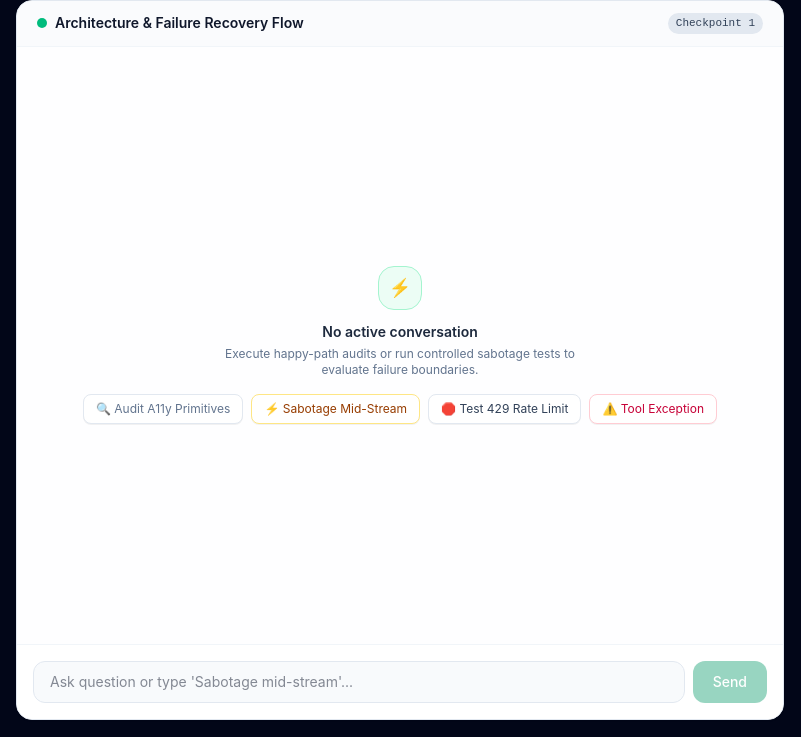
ChatInterface & Tool Execution Suite › displays pending indicator while response stream is awaiting first token
In the field with placeholder "Ask question or type 'Sabotage mid-stream'...": (359, 682) [33,661,685,703], type "Inspect system"
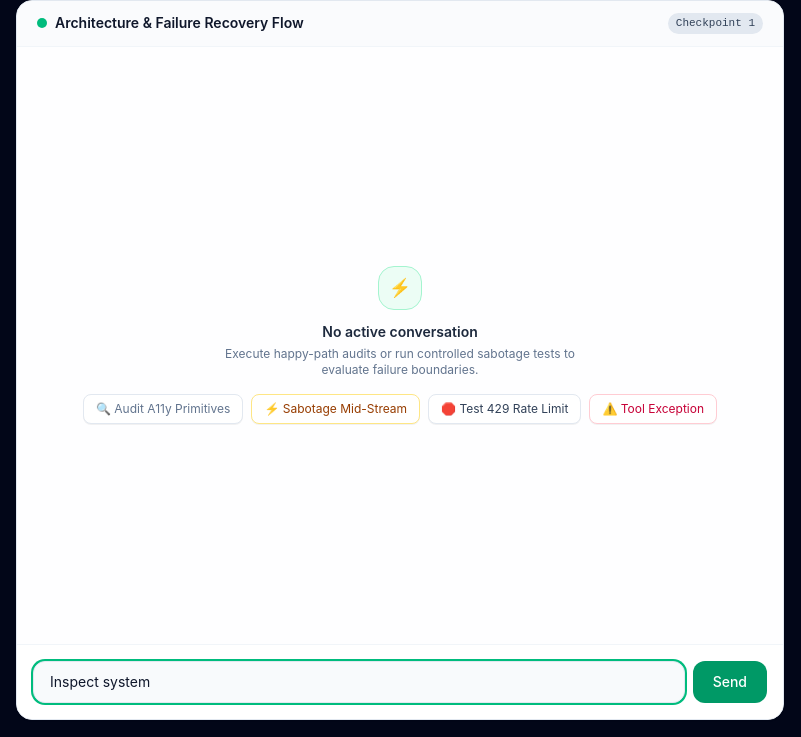
Click the button "Send": (730, 682) [693,661,767,703]
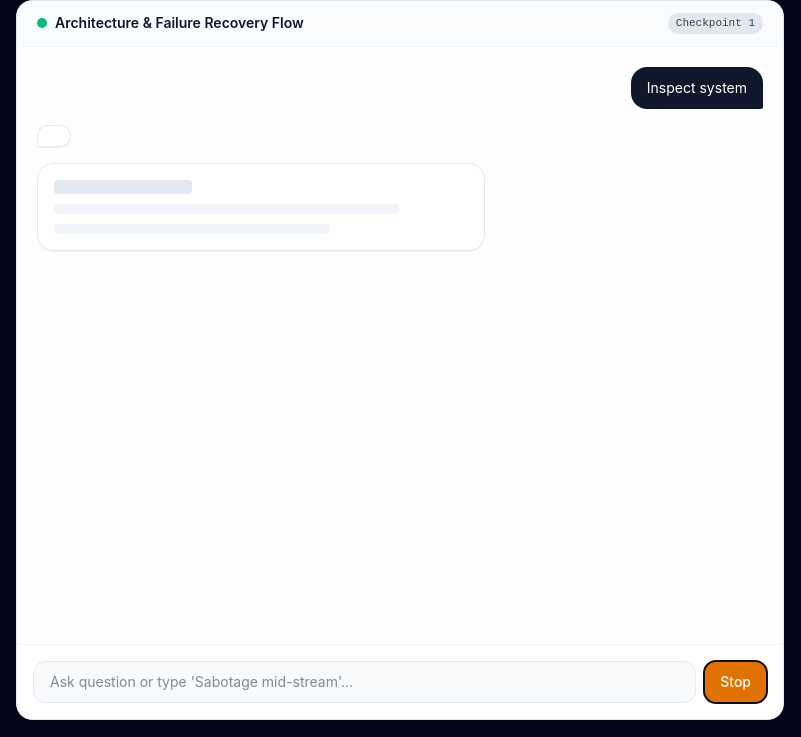
Expected: the button "Stop" is shown, [704,661,767,703]
